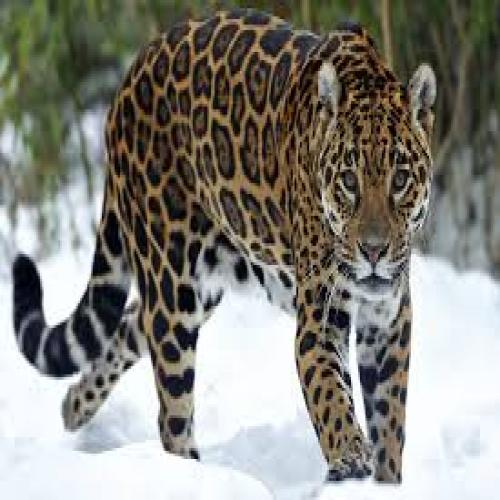jaguar_not-endangered: (12, 13, 438, 479)
